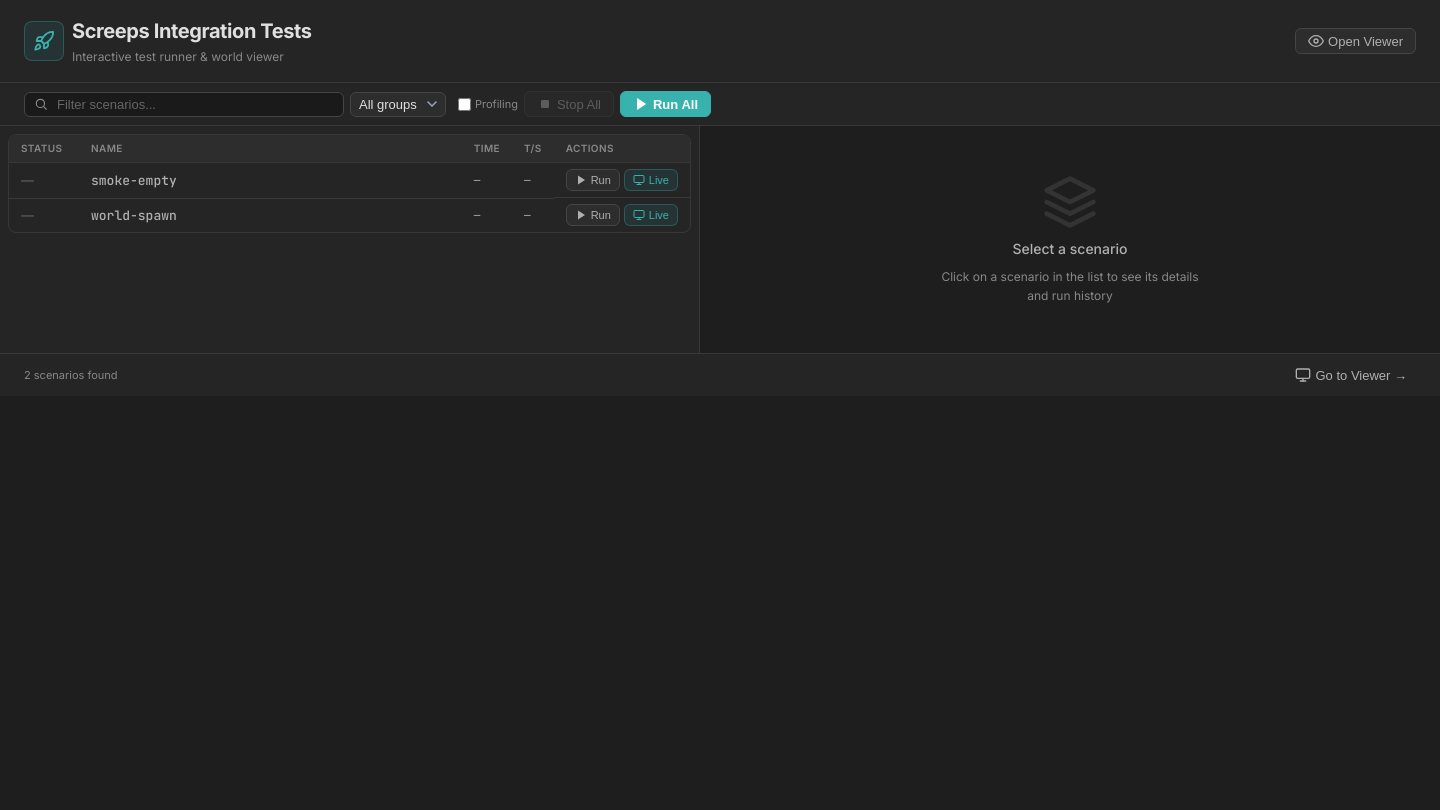
Test: ScenarioManager Snapshots tab › shows empty state when there are no snapshots
Click the text "smoke-empty" at point(270, 180), box [79,162,462,198]
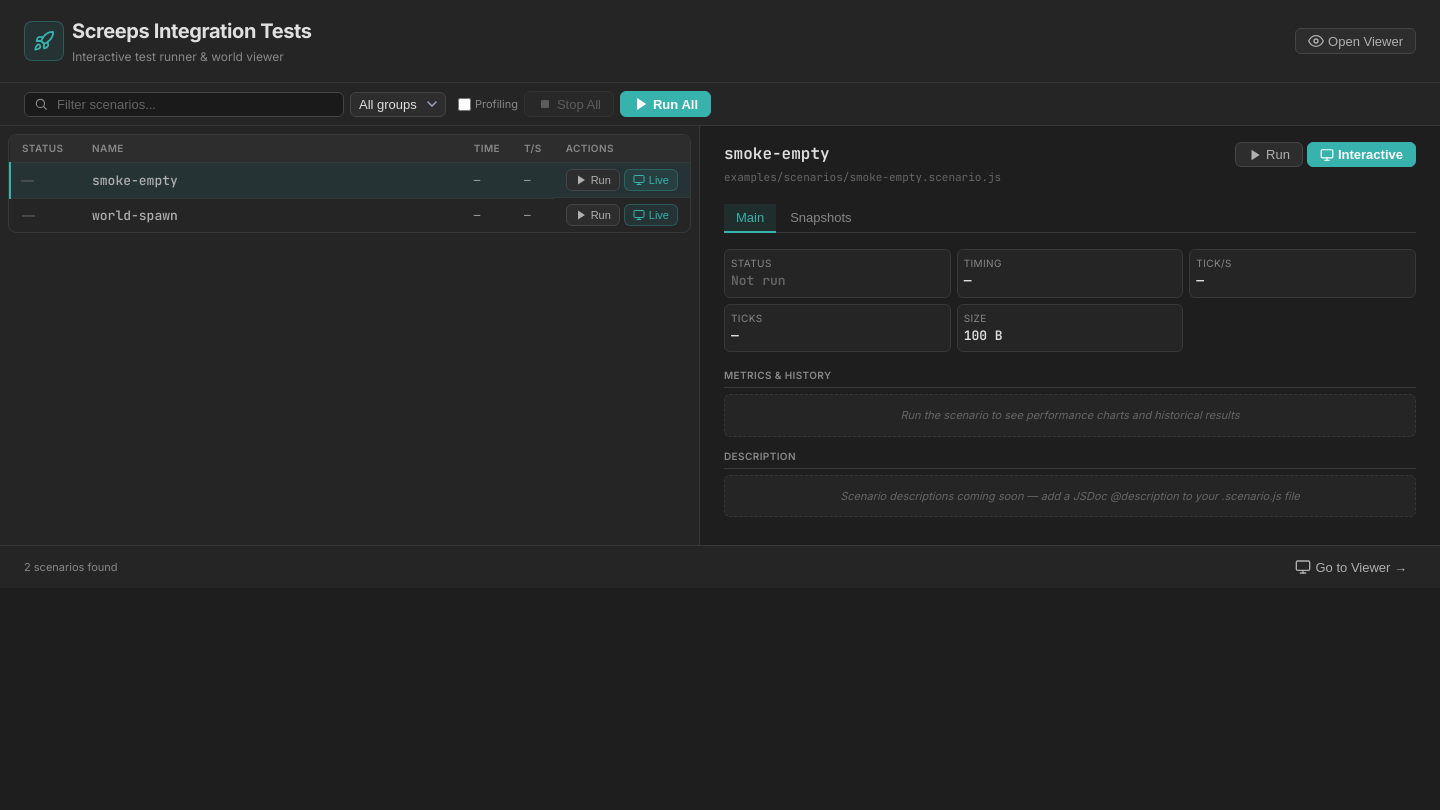
Click the button "Snapshots" at point(821, 218), box [778,204,864,233]
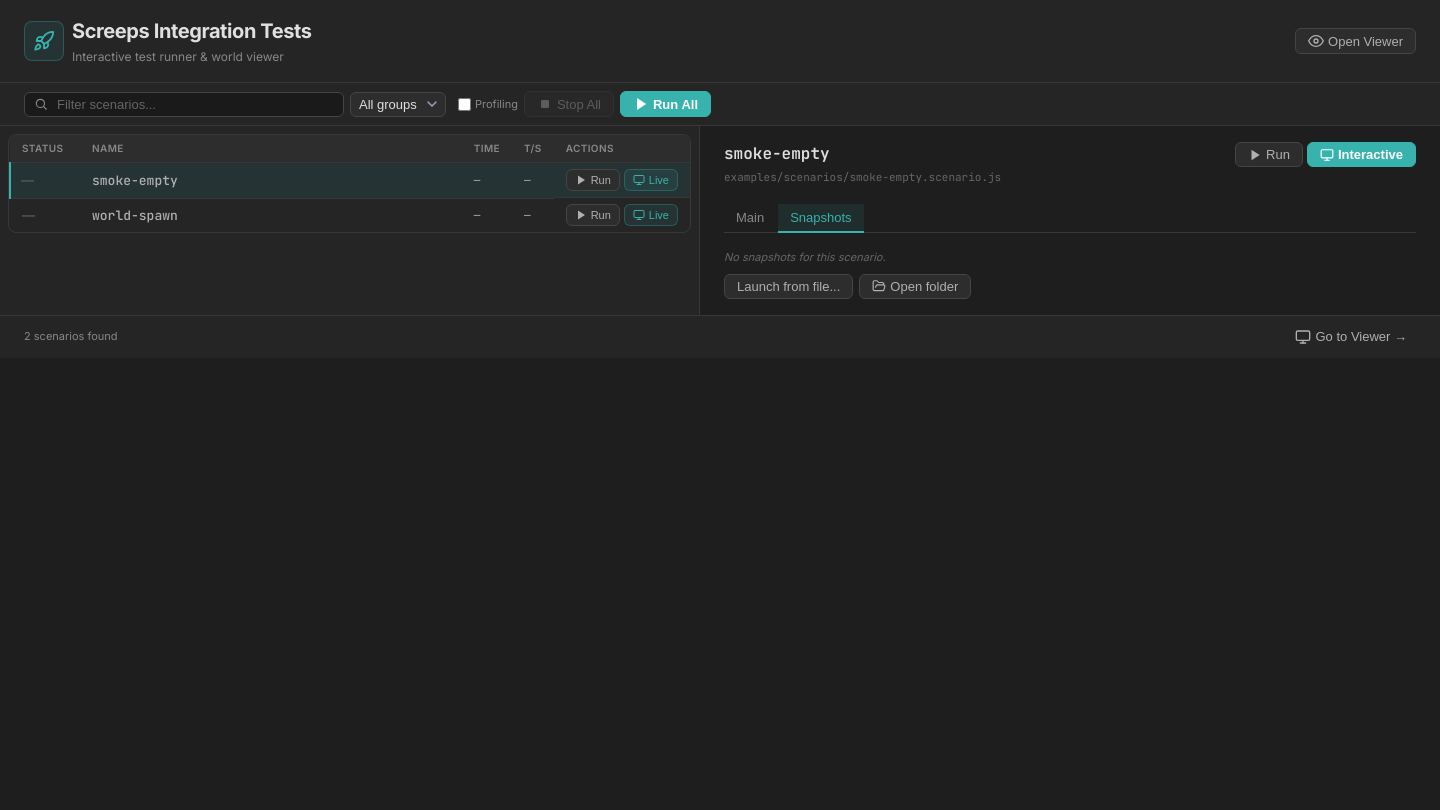
Expected: the text "No snapshots for this scenario." is shown, [724,250,886,264]
